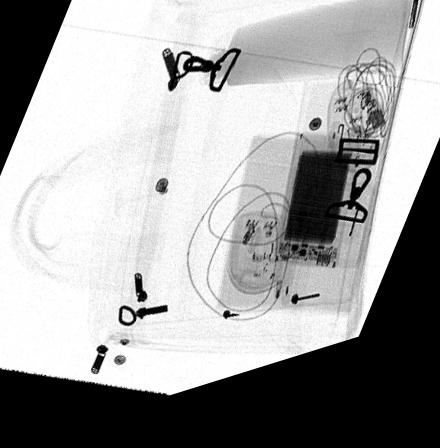Powerbank: (271, 147, 361, 290)
